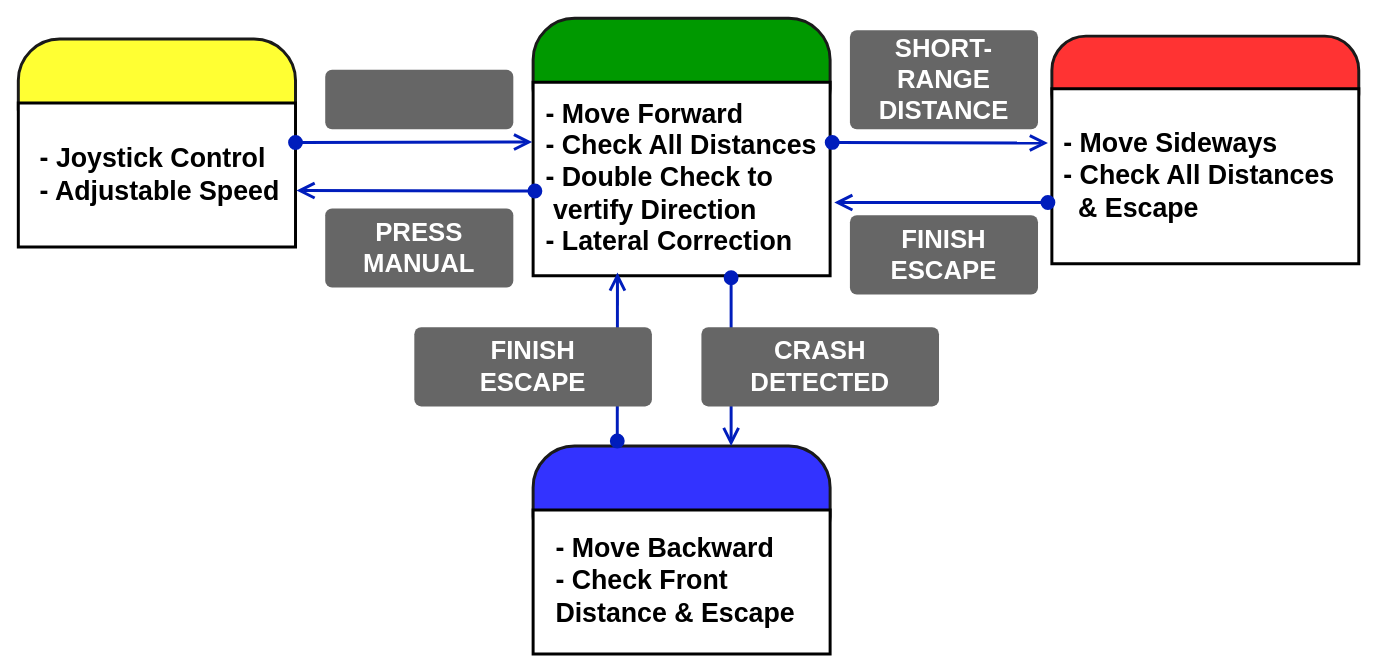
Some shapes in this 1377 by 672 pixel diagram are drawn without their labels. Each missing label, with the centre of its shape:
"AUTO_AVOID" goes at point 1205,81.
"AUTO_BACK" goes at point 681,501.
"AUTO_SCAN" goes at point 681,73.
"MANUAL" goes at point 156,94.
"PRESS AUTO" goes at point 419,99.
